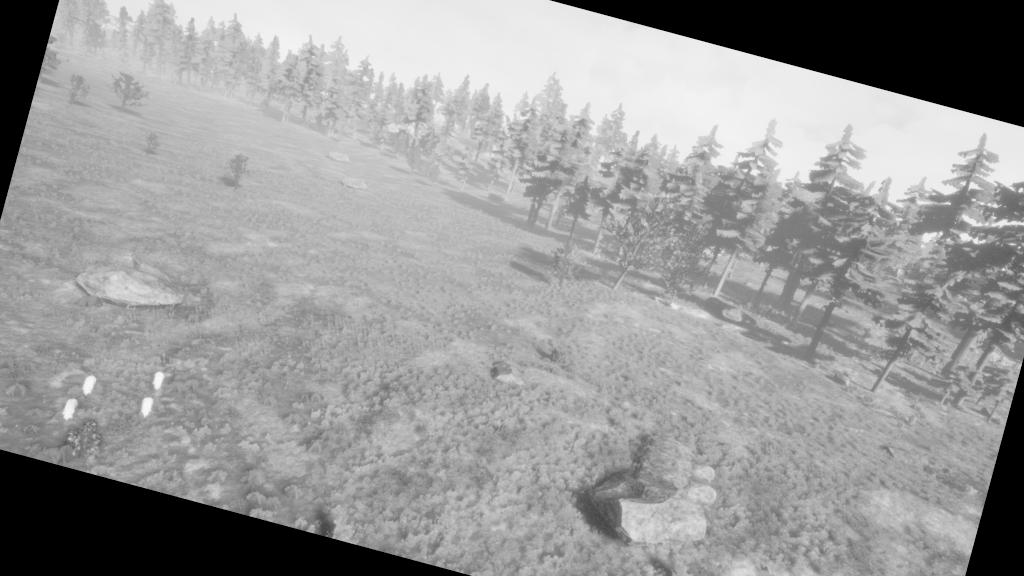pig: (47, 386, 91, 434), (68, 356, 108, 402), (126, 382, 166, 425), (140, 358, 176, 395)
